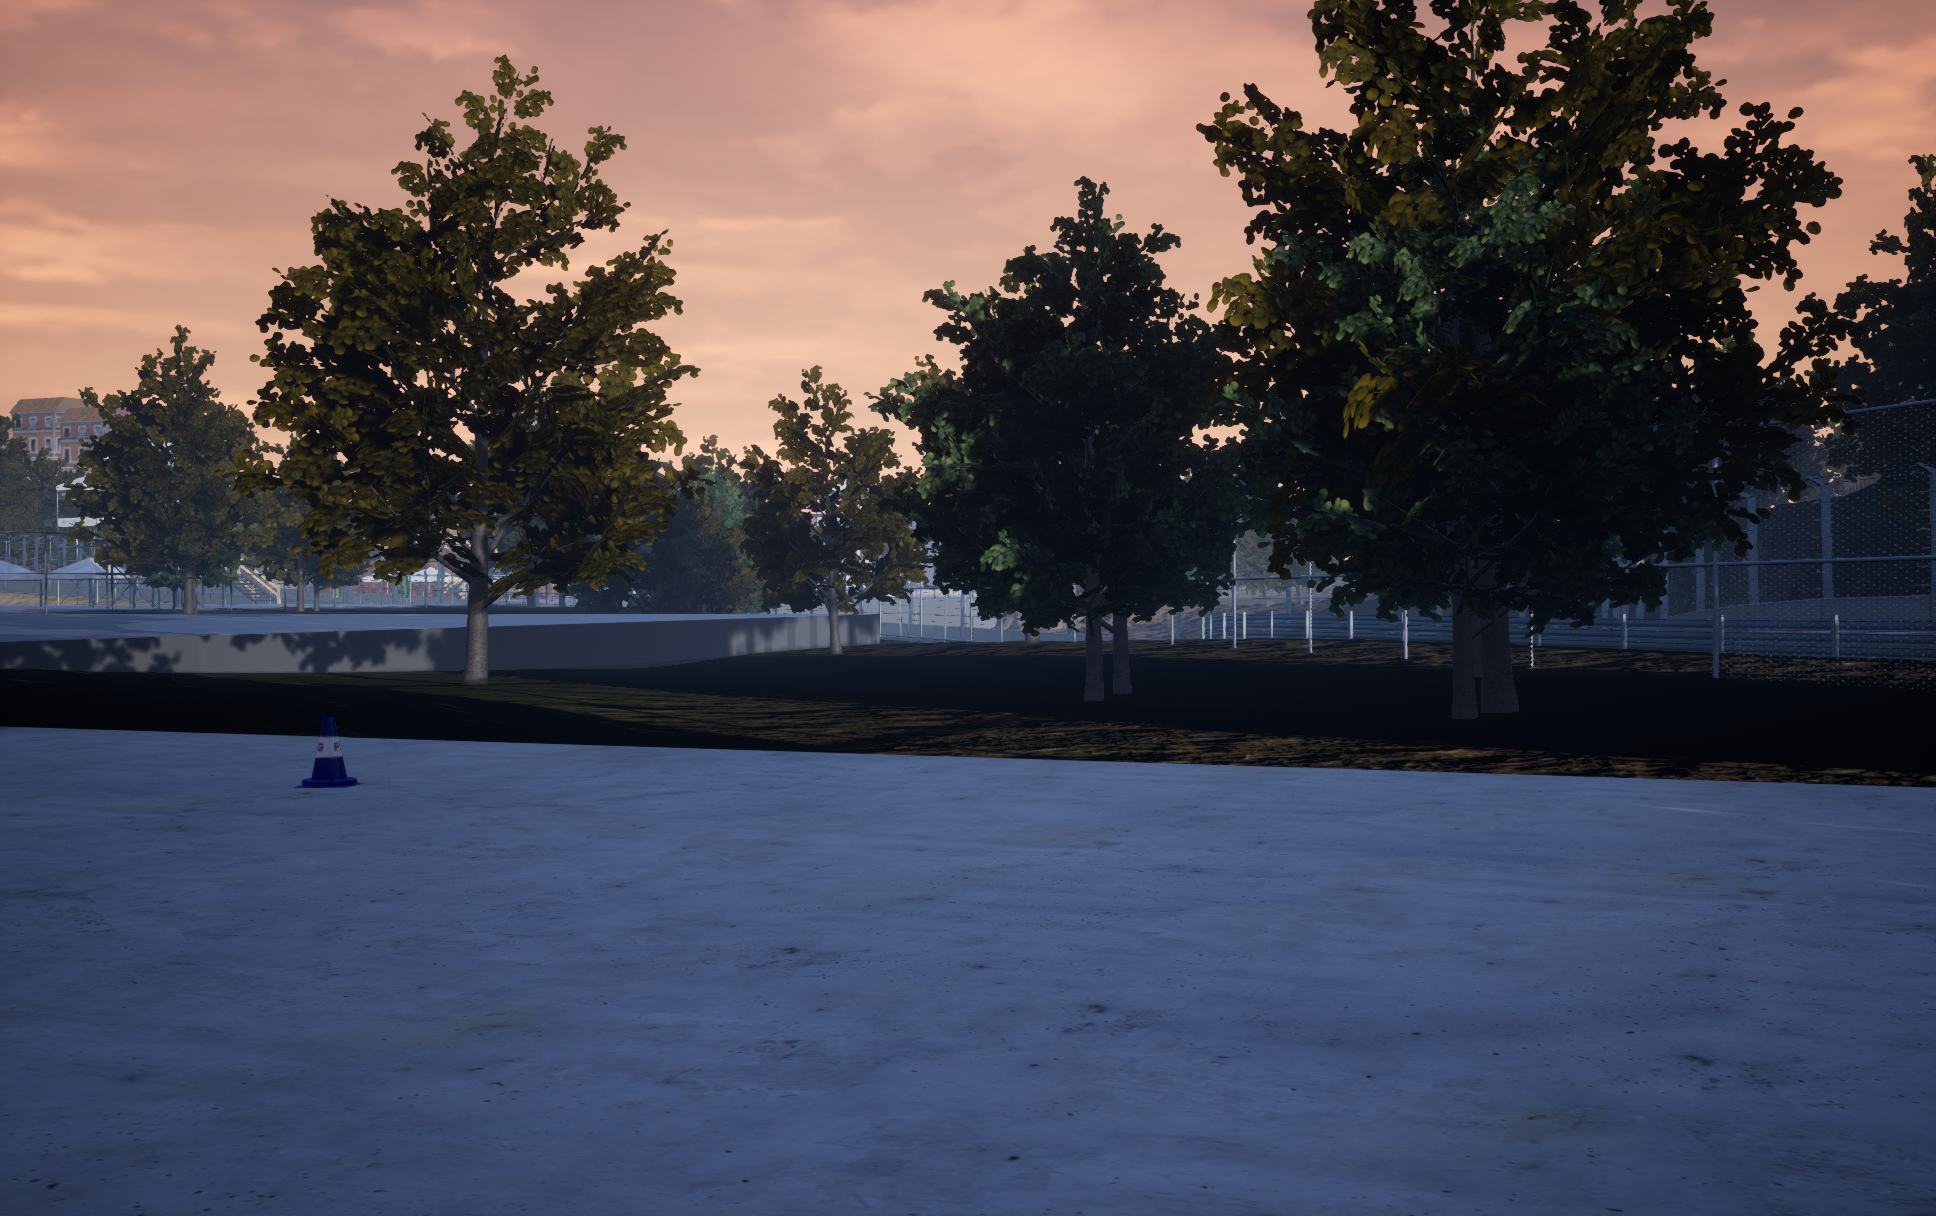yellow: (294, 714, 363, 787)
